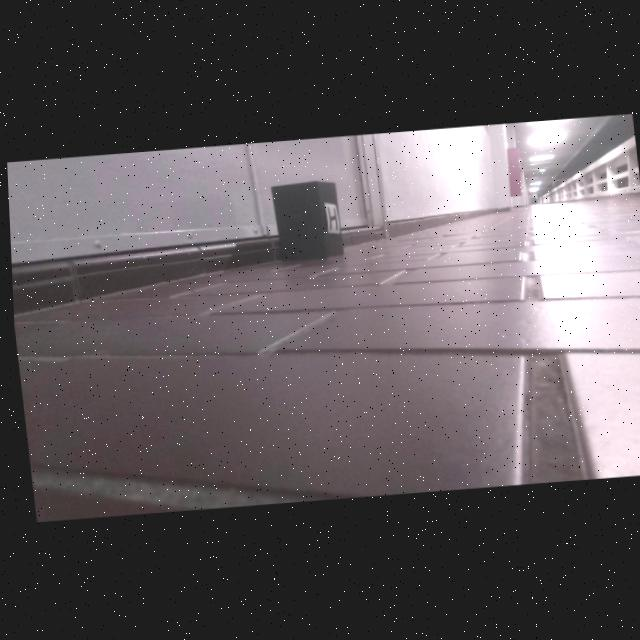H: (325, 207, 335, 231)
